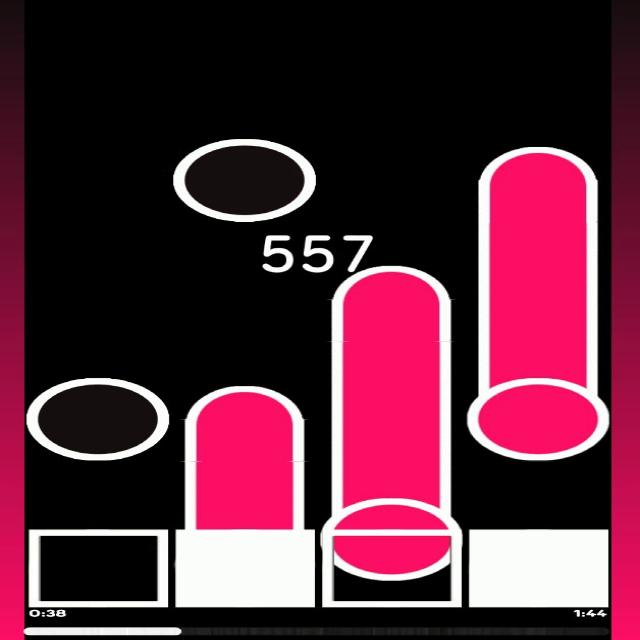end_hold: (328, 258, 452, 312), (475, 141, 601, 189), (180, 376, 306, 424)
note: (26, 378, 172, 462), (170, 139, 316, 222)
start_hold: (466, 360, 610, 461), (321, 483, 462, 581)
